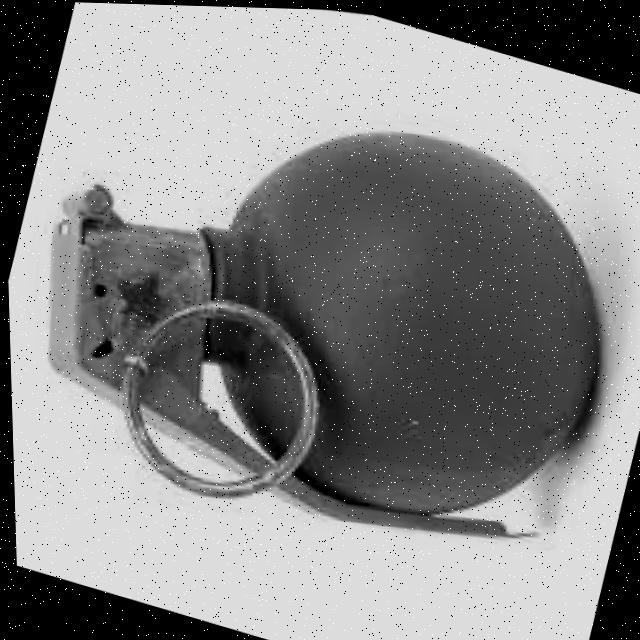grenade: (0, 0, 640, 636)
